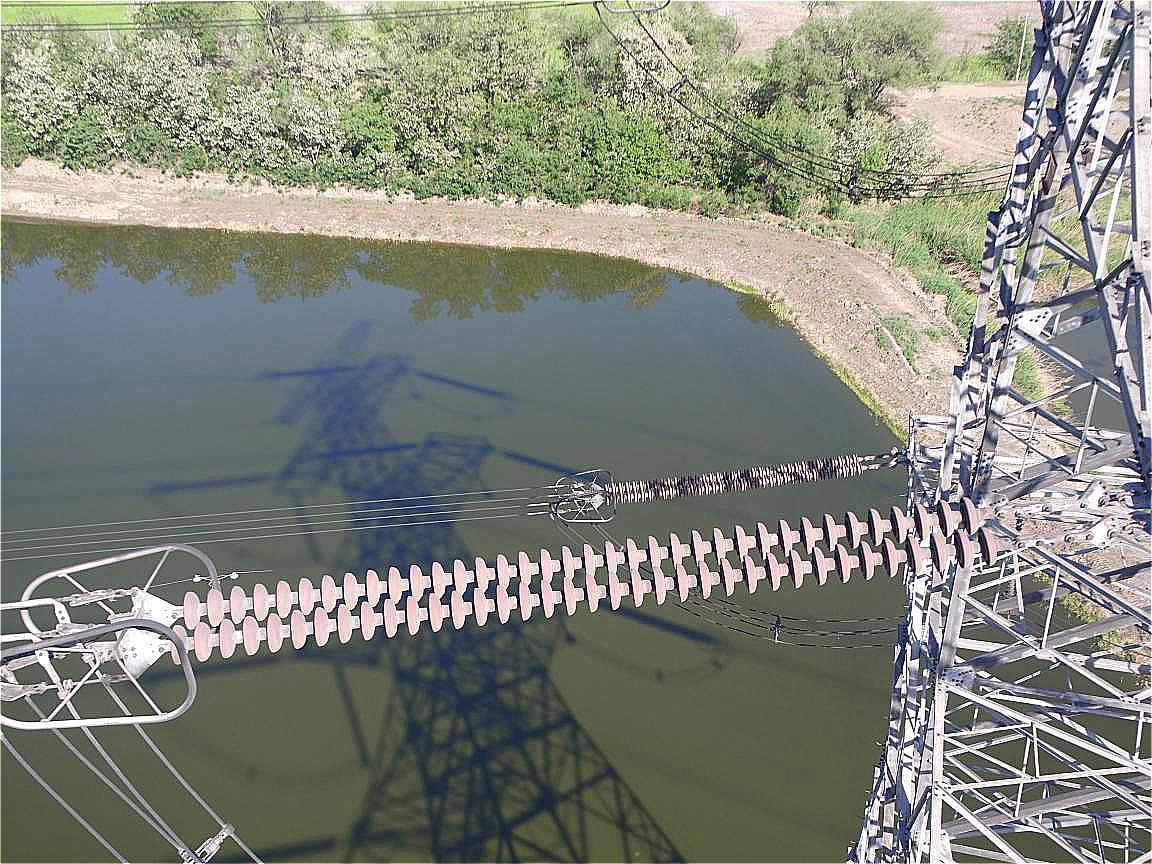insultor1: (139, 490, 1022, 659)
